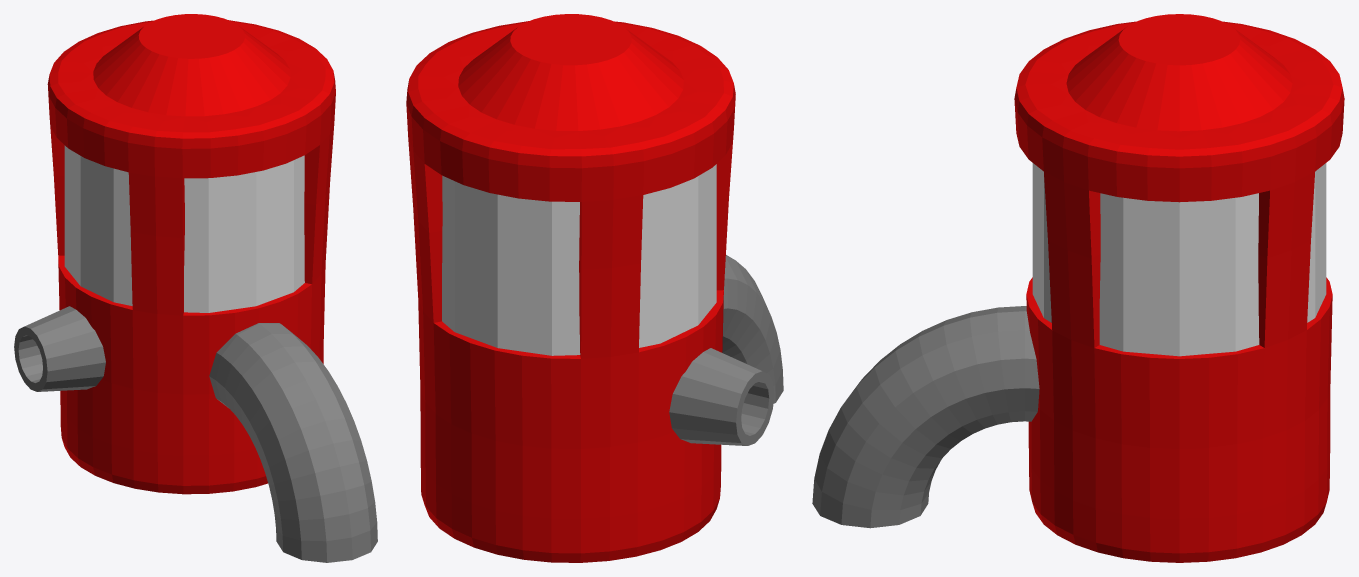
The model's file is Stuffing Station Import.fbx.
3 renders of one model, left to right at view 1: azimuth 30°, elevation 25°; view 2: azimuth 150°, elevation 25°; view 3: azimuth 270°, elevation 25°, orthographic. The views are drawn at different scales.
Parts seen in each view (by area): view 1: Stuffing Machine Main, Stuffing Machine Glass, Stuffing Machine Pipe, Stuffing Machine Cap, Stuffing Machine Nozzle; view 2: Stuffing Machine Main, Stuffing Machine Glass, Stuffing Machine Cap, Stuffing Machine Nozzle, Stuffing Machine Pipe; view 3: Stuffing Machine Main, Stuffing Machine Pipe, Stuffing Machine Glass, Stuffing Machine Cap.
Boxes of the visible parts, x1,y1,x2,y2 form: Stuffing Machine Main: [47, 20, 335, 494]; Stuffing Machine Glass: [64, 145, 304, 312]; Stuffing Machine Pipe: [209, 323, 377, 562]; Stuffing Machine Cap: [93, 14, 290, 116]; Stuffing Machine Nozzle: [14, 306, 105, 391]; Stuffing Machine Main: [406, 21, 735, 562]; Stuffing Machine Glass: [442, 164, 716, 355]; Stuffing Machine Cap: [458, 14, 683, 130]; Stuffing Machine Nozzle: [669, 348, 774, 445]; Stuffing Machine Pipe: [722, 255, 783, 403]; Stuffing Machine Main: [1014, 21, 1344, 562]; Stuffing Machine Pipe: [812, 306, 1039, 528]; Stuffing Machine Glass: [1032, 163, 1326, 356]; Stuffing Machine Cap: [1066, 14, 1292, 131].
Size of the model in its own units: 489 by 664 by 689.
